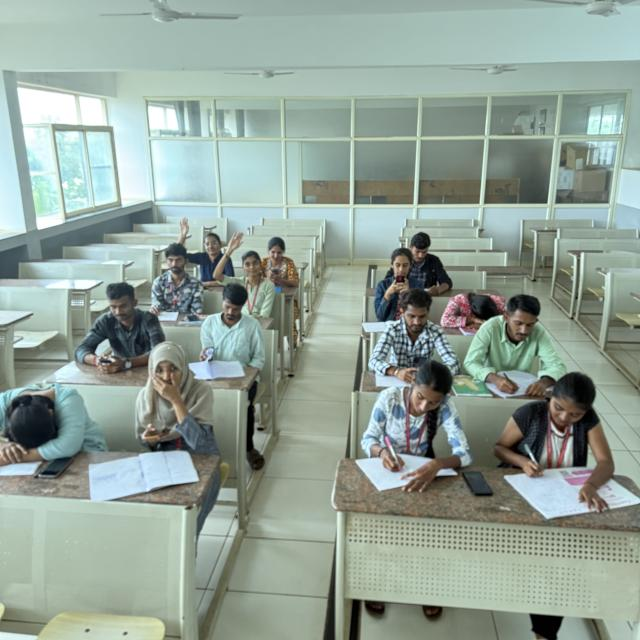Hand Rising: (213, 228, 270, 307), (173, 212, 233, 280)
Reading: (192, 288, 270, 382)
Sleeping: (0, 375, 105, 452), (432, 279, 516, 333)
Using Phone: (125, 333, 206, 459), (372, 289, 457, 387), (77, 281, 161, 373), (370, 249, 424, 318), (258, 222, 304, 293)
Writing: (504, 375, 620, 500), (356, 362, 465, 480), (468, 299, 564, 399)
